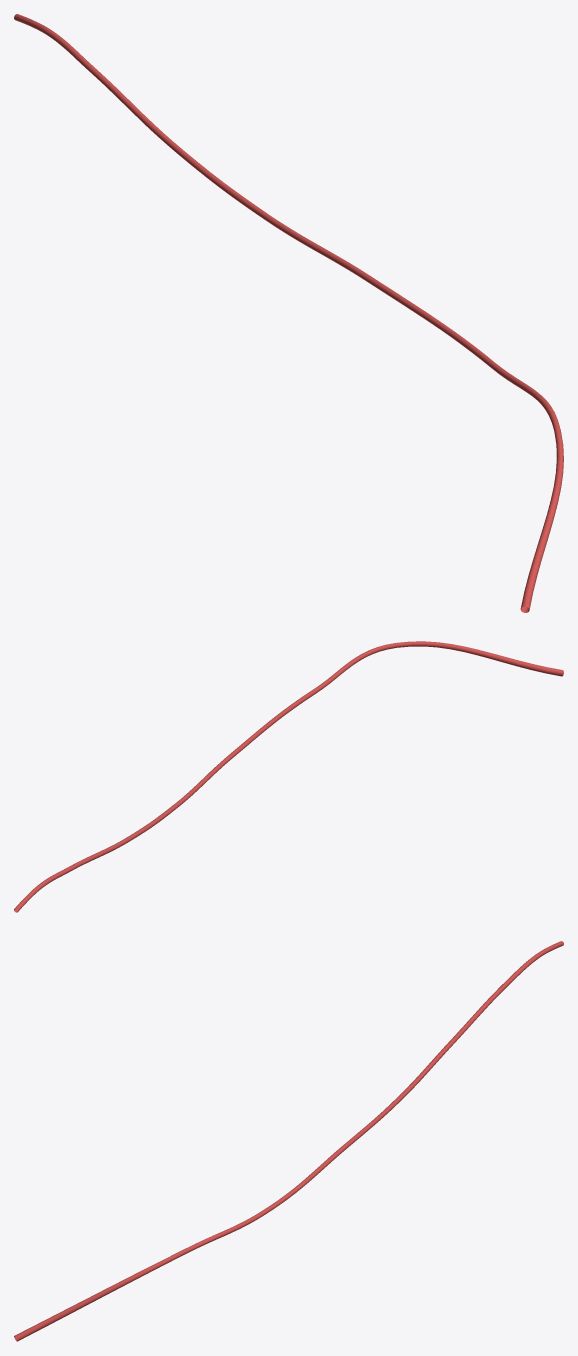
3 renders of one model, top to bottom at view 1: azimuth 30°, elevation 25°; view 2: azimuth 150°, elevation 25°; view 3: azimuth 330°, elevation 25°, orthographic. The views are drawn at different scales.
Parts seen in each view (by area): view 1: 左侧旋股外侧动脉降支; view 2: 左侧旋股外侧动脉降支; view 3: 左侧旋股外侧动脉降支.
Boxes of the visible parts, <box> form: 左侧旋股外侧动脉降支: <box>14,14,563,612</box>; 左侧旋股外侧动脉降支: <box>14,641,563,912</box>; 左侧旋股外侧动脉降支: <box>14,941,563,1341</box>.
Bounding box in the file's own units: 0.0718 × 0.0524 × 0.4885.
